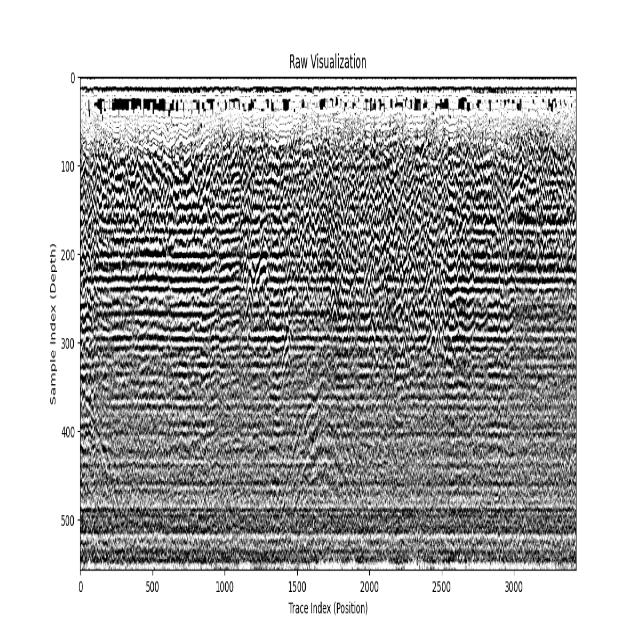anomaly: (298, 364, 366, 564), (81, 371, 130, 567)
